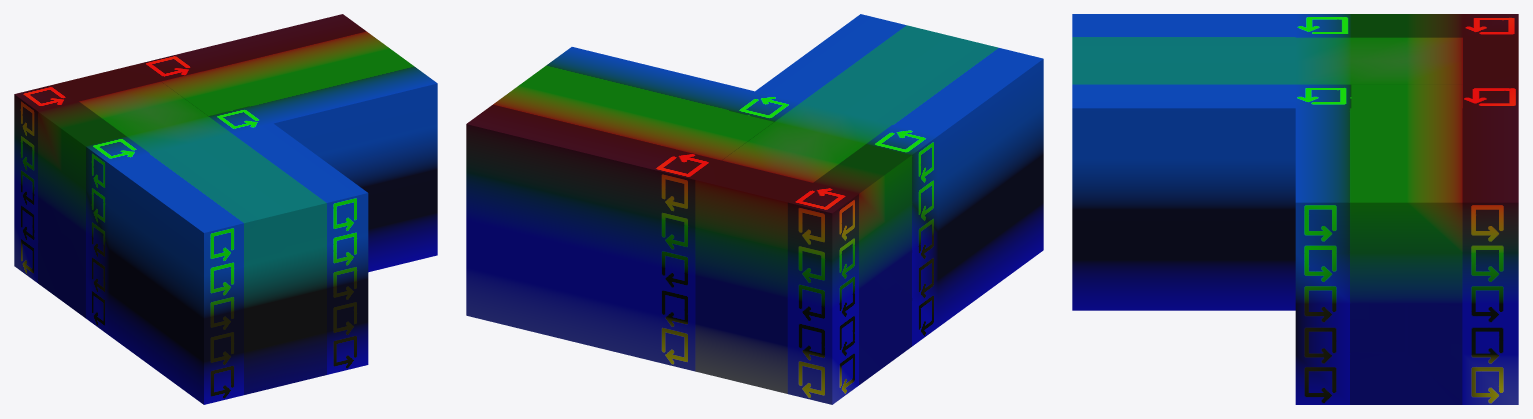
The model's file is L_TypeObjtType2.gltf.
3 renders of one model, left to right at view 1: azimuth 30°, elevation 25°; view 2: azimuth 150°, elevation 25°; view 3: azimuth 270°, elevation 25°, orthographic. The views are drawn at different scales.
Parts seen in each view (by area): view 1: Cube.001; view 2: Cube.001; view 3: Cube.001.
Part boxes in pixels (x1=…): Cube.001: x1=14, y1=14, x2=437, y2=404; Cube.001: x1=466, y1=14, x2=1043, y2=404; Cube.001: x1=1072, y1=14, x2=1518, y2=404.
Bounding box in the file's own units: 7 × 3.5 × 7.
Materials: 1 (1 with a texture image).
